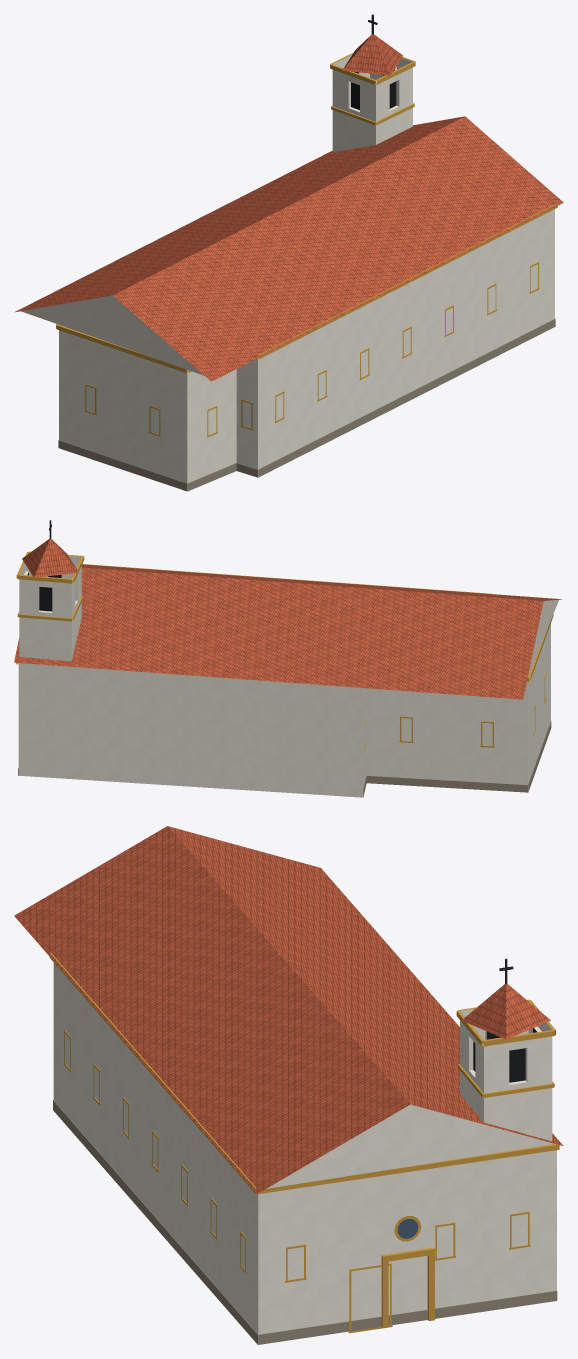
The picture shows the model from 3 angles, top to bottom: view 1: azimuth 30°, elevation 25°; view 2: azimuth 150°, elevation 25°; view 3: azimuth 270°, elevation 25°; orthographic projection. The views are drawn at different scales.
Parts seen in each view (by area): view 1: B-w1354218026_cubierta, B-w1354218026_muros, B-w1354218026_lejos, B-w1354218026_molduras, B-w1354218026_remates; view 2: B-w1354218026_cubierta, B-w1354218026_lejos, B-w1354218026_muros, B-w1354218026_remates, B-w1354218026_molduras; view 3: B-w1354218026_cubierta, B-w1354218026_muros, B-w1354218026_lejos, B-w1354218026_remates, B-w1354218026_molduras.
Part boxes in pixels (box(x1,y1,x2,y2)): B-w1354218026_cubierta: box(14, 116, 563, 381); B-w1354218026_muros: box(59, 209, 554, 476); B-w1354218026_lejos: box(59, 264, 537, 490); B-w1354218026_molduras: box(56, 203, 557, 491); B-w1354218026_remates: box(330, 14, 415, 151); B-w1354218026_cubierta: box(14, 564, 561, 699); B-w1354218026_lejos: box(18, 624, 550, 797); B-w1354218026_muros: box(364, 673, 533, 791); B-w1354218026_remates: box(16, 520, 84, 661); B-w1354218026_molduras: box(16, 564, 553, 797); B-w1354218026_cubierta: box(14, 826, 563, 1193); B-w1354218026_muros: box(53, 963, 556, 1343); B-w1354218026_lejos: box(65, 982, 527, 1334); B-w1354218026_remates: box(381, 958, 555, 1327); B-w1354218026_molduras: box(49, 952, 559, 1344).
Bounding box in the file's own units: 49 × 23.42 × 34.91.
Materials: 4 (4 with a texture image).
